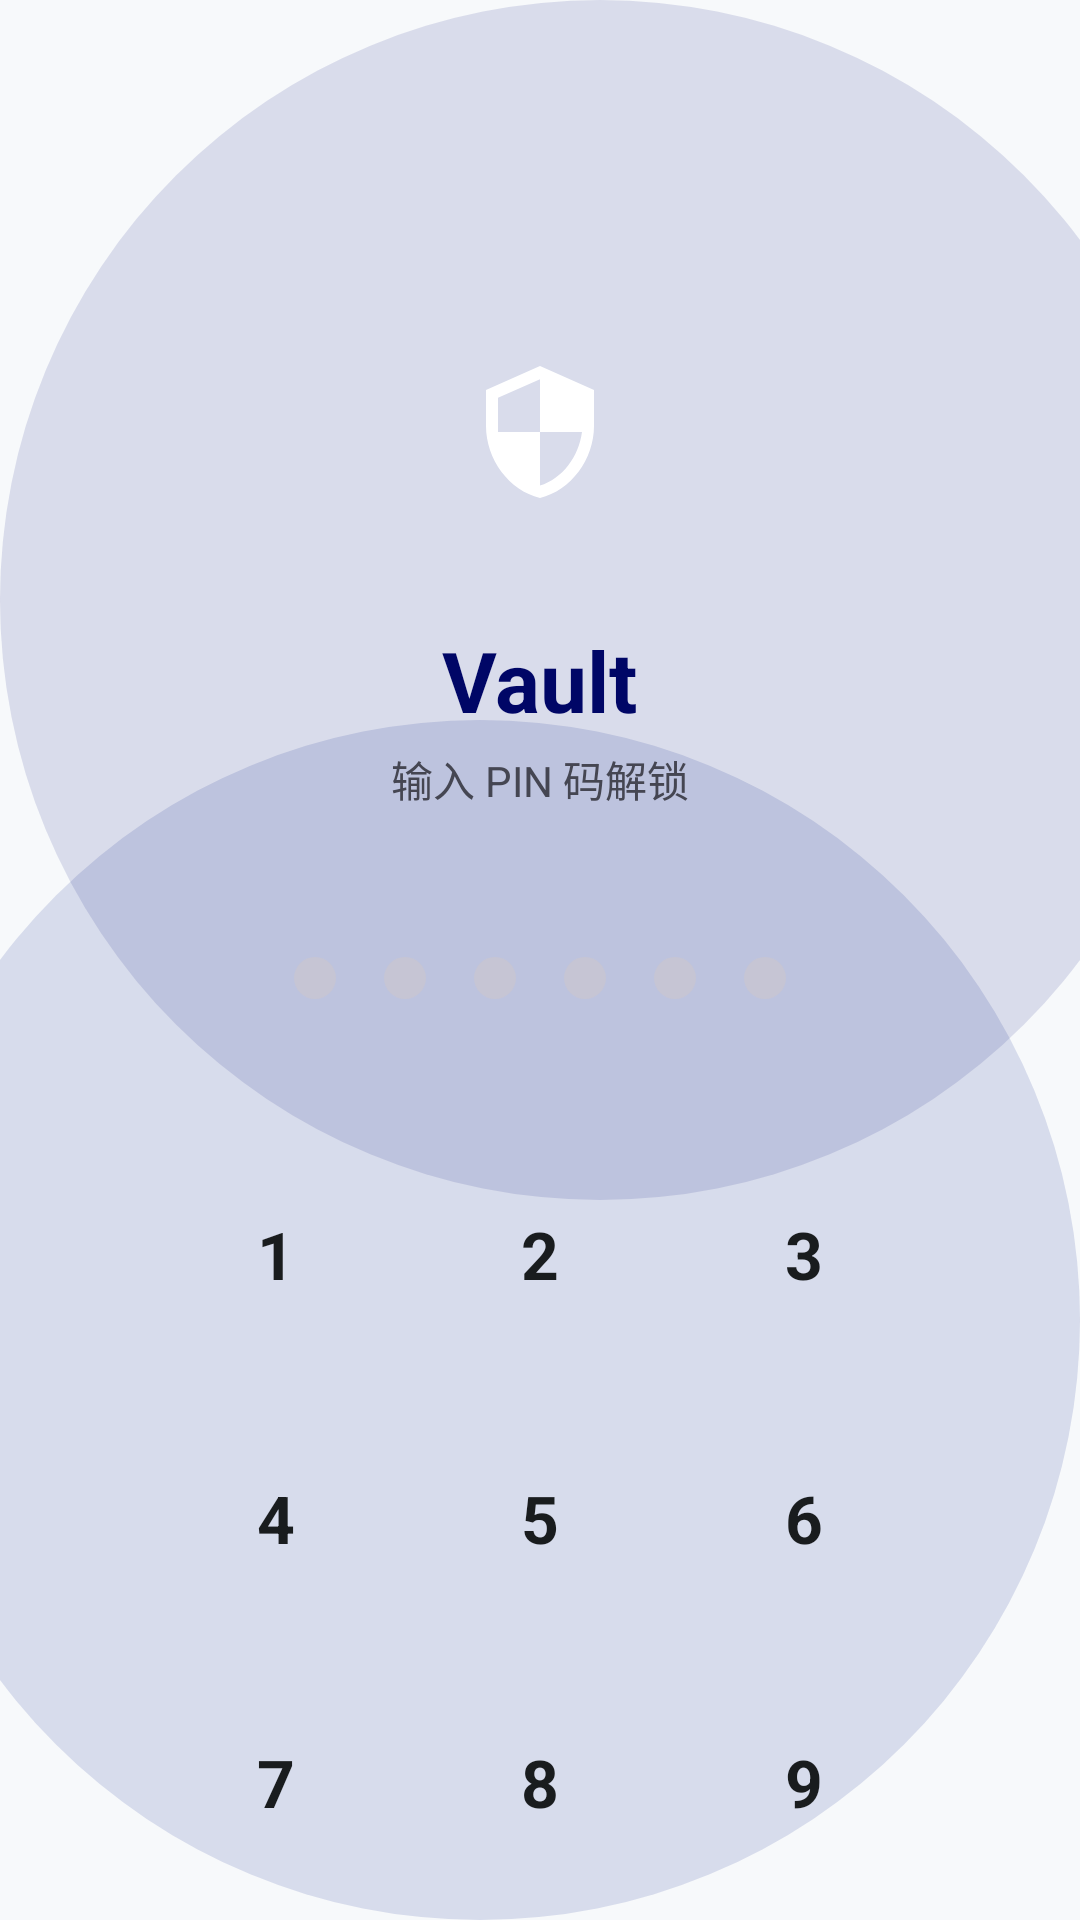

Point at icon controls on the screen. Image size 1080 x 1920, points as point (x, y).
shield: point (540, 432)
